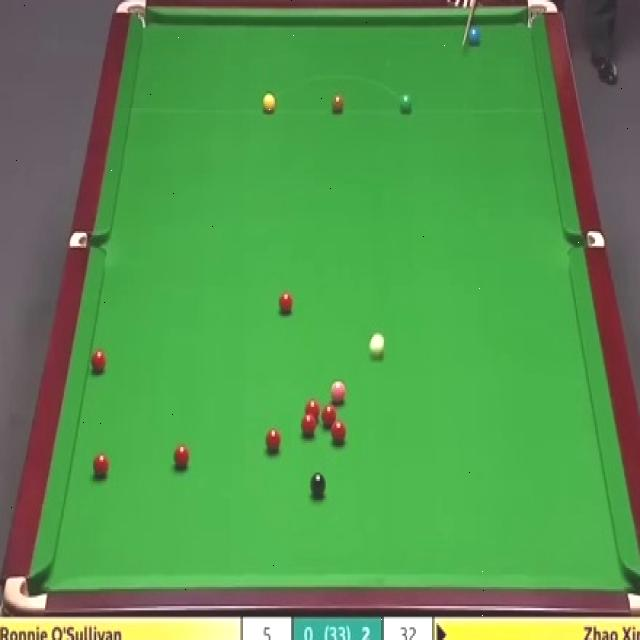black-ball: (310, 472, 327, 500)
blue-ball: (466, 21, 483, 47)
brown-ball: (331, 94, 345, 116)
green-ball: (399, 94, 413, 116)
pink-ball: (327, 380, 347, 406)
red-ball: (92, 452, 110, 481), (264, 426, 281, 454), (172, 444, 190, 470), (320, 403, 338, 428), (300, 414, 317, 439), (90, 348, 106, 374), (278, 290, 294, 316), (303, 399, 321, 422), (331, 418, 346, 443)
white-ball: (368, 329, 386, 359)
yellow-ball: (262, 92, 276, 114)
